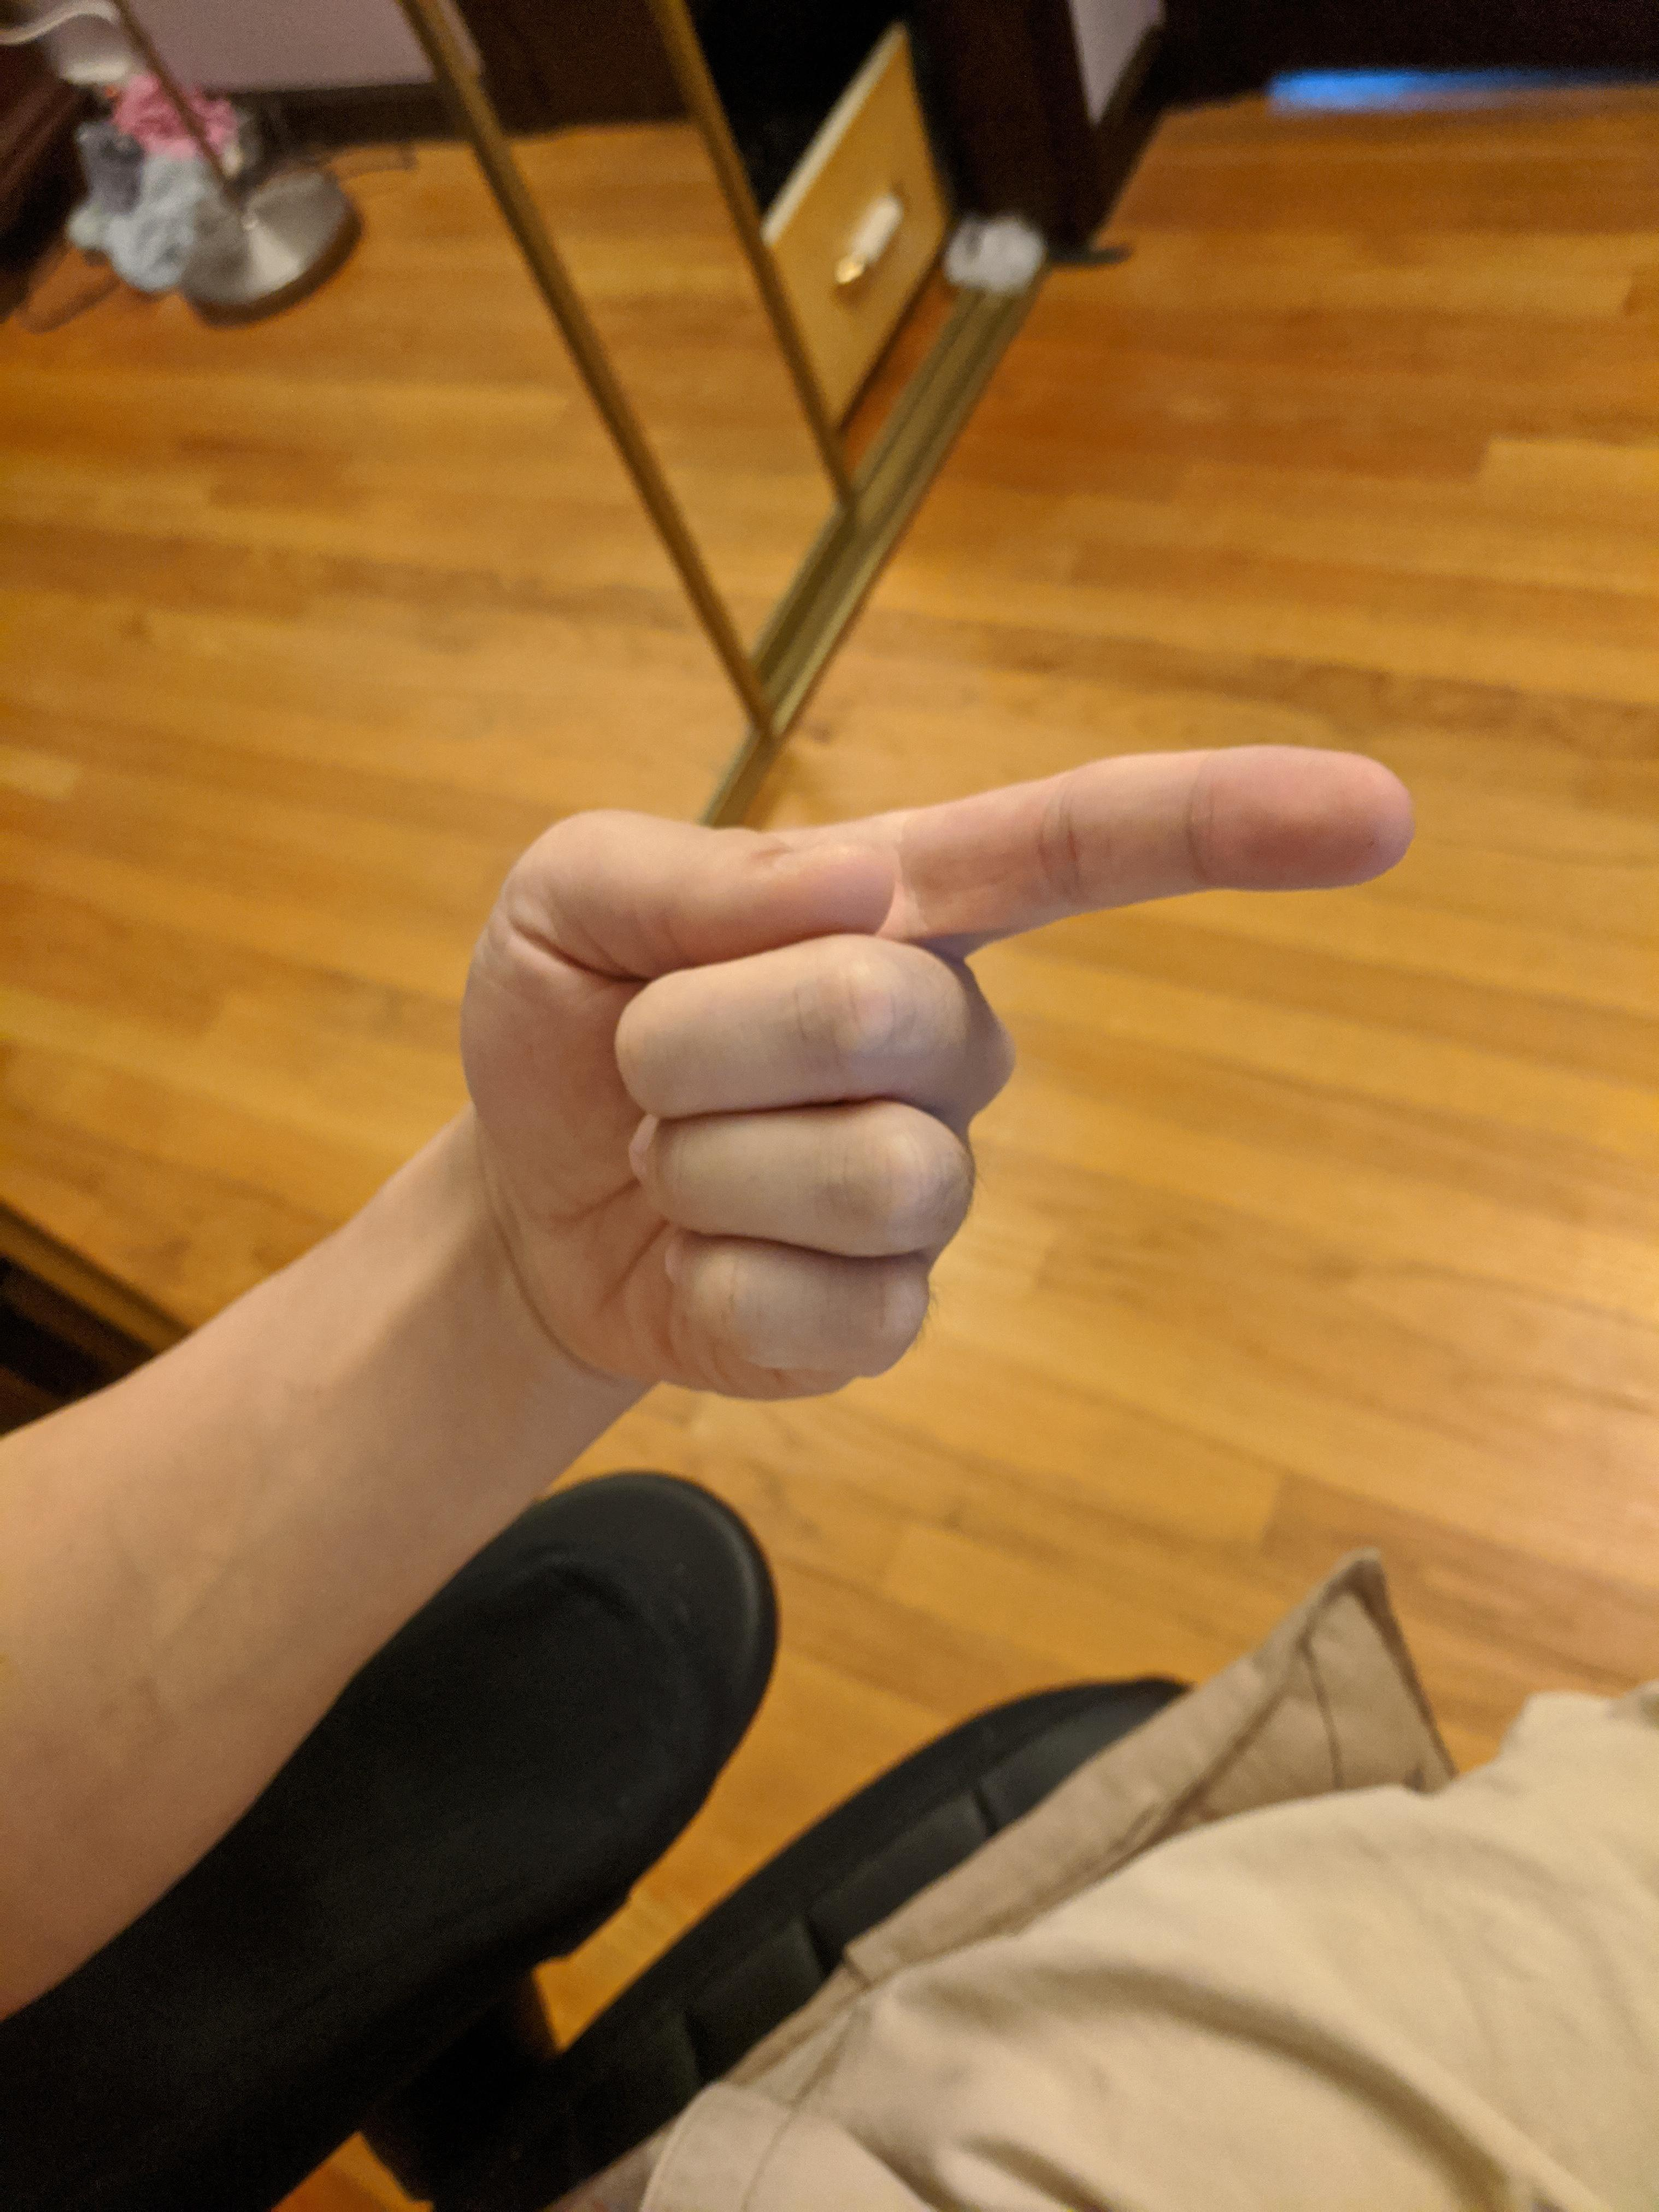G: (450, 726, 1446, 1418)
